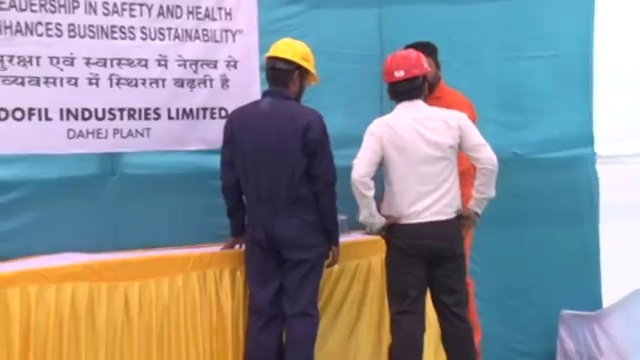helmet: (263, 35, 322, 84), (383, 48, 433, 84)
helmet_on: (260, 34, 322, 100), (382, 46, 433, 108)
person: (352, 46, 500, 360), (217, 36, 342, 360), (407, 39, 486, 209)
